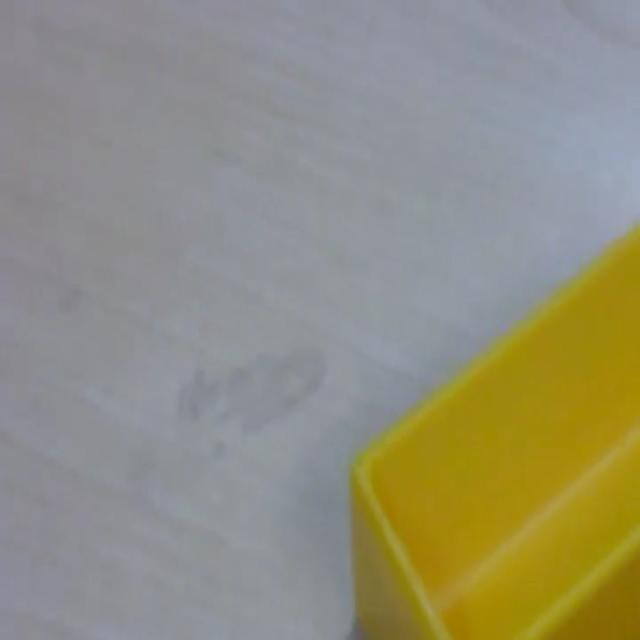yellow_block: (348, 222, 639, 638)
